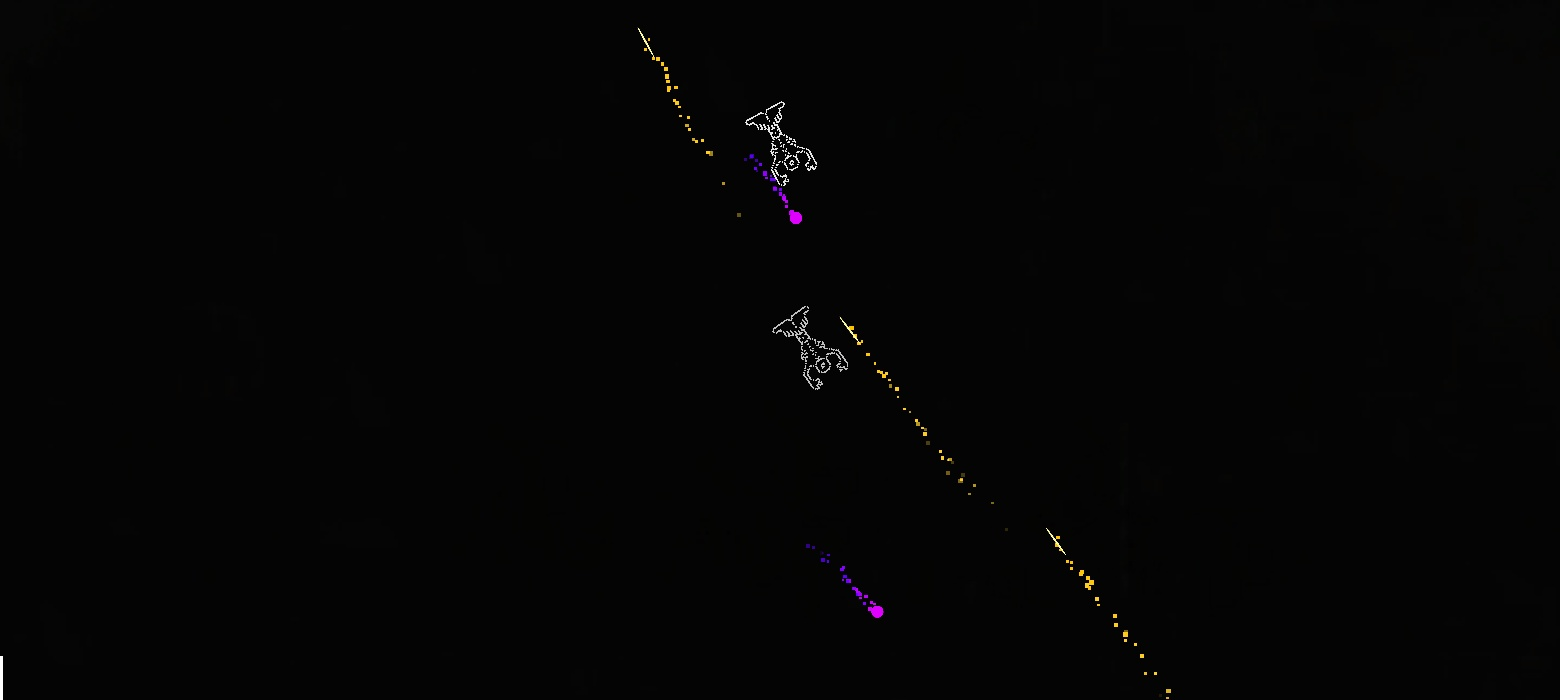enemy: (772, 306, 849, 389), (745, 101, 817, 186)
